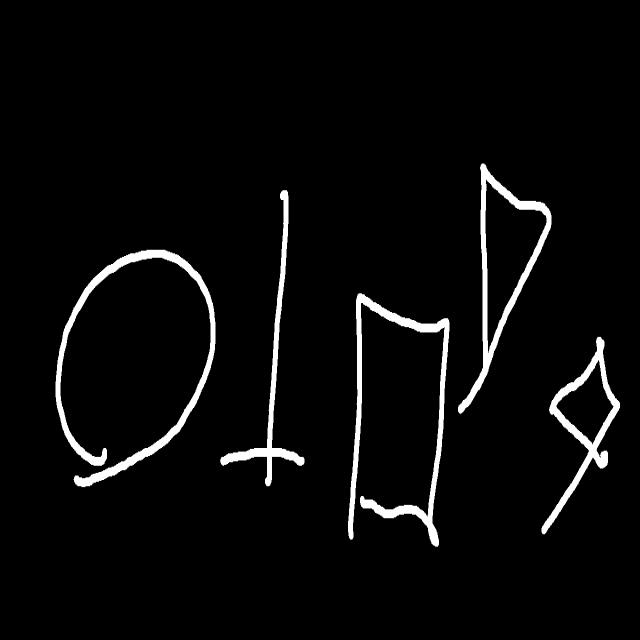Circle: (56, 250, 214, 486)
Cross: (221, 190, 304, 486)
Diamond: (542, 339, 620, 534)
Square: (348, 294, 450, 546)
Triangle: (458, 164, 552, 413)
